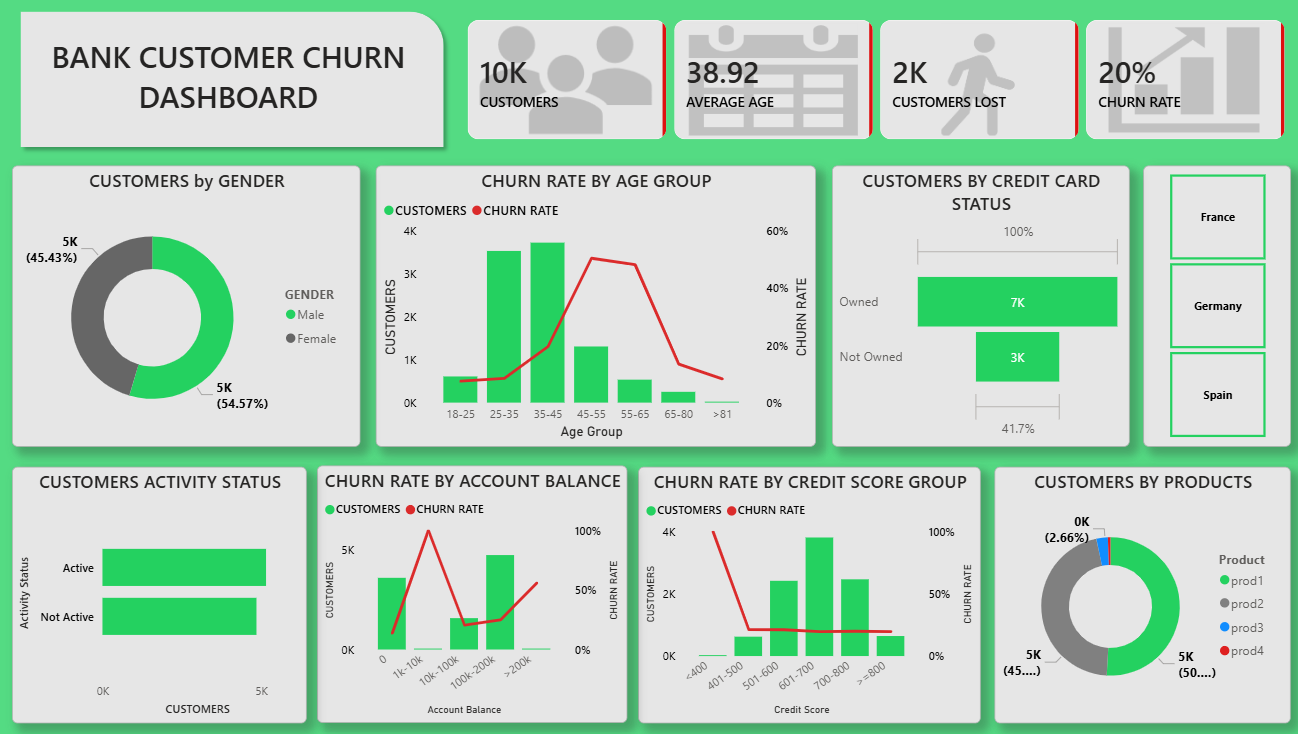

The dashboard page shown, as its layout file describes it:
{"tool":"powerbi","page":{"name":"Page 1","canvas":[1400,800],"ordinal":0},"visuals":[{"type":"cardVisual","fields":{"Data":["Customer Records.CUSTOMERS","Customer Records.AVERAGE AGE","Customer Records.CUSTOMERS LOST","Customer Records.CHURN RATE"]},"box":[487.9,12.1,911.5,162.2],"z":0},{"type":"lineClusteredColumnComboChart","title":"CHURN RATE BY AGE GROUP","fields":{"Y2":["Customer Records.CHURN RATE"],"Y":["Customer Records.CUSTOMERS"],"Category":["Age Groups.Age Group"]},"box":[406.2,185,471.9,301.6],"z":1000},{"type":"donutChart","fields":{"Y":["Customer Records.CUSTOMERS"],"Category":["Customer Records.Gender"]},"box":[16.1,185,374,301.6],"z":2000},{"type":"lineClusteredColumnComboChart","title":"CHURN RATE BY CREDIT SCORE GROUP","fields":{"Y":["Customer Records.CUSTOMERS"],"Y2":["Customer Records.CHURN RATE"],"Category":["Credit score Group.Credit Score"]},"box":[687.7,508,367.3,274.8],"z":3000},{"type":"lineClusteredColumnComboChart","title":"CHURN RATE BY ACCOUNT BALANCE","fields":{"Y2":["Customer Records.CHURN RATE"],"Y":["Customer Records.CUSTOMERS"],"Category":["Account Balance Group.Account Balance"]},"box":[343.2,506.7,332.4,276.1],"z":4000},{"type":"slicer","fields":{"Values":["Customer Records.Geography"]},"box":[1229.2,185,158.2,301.6],"z":5000},{"type":"donutChart","title":"CUSTOMERS BY PRODUCTS","fields":{"Category":["Customer Records.Product"],"Y":["Customer Records.CUSTOMERS"]},"box":[1069.7,508,317.7,274.8],"z":6000},{"type":"barChart","title":"CUSTOMERS ACTIVITY STATUS","fields":{"Category":["Customer Records.Activity Status"],"Y":["Customer Records.CUSTOMERS"]},"box":[16.1,508,316.4,274.8],"z":7000},{"type":"funnel","title":"CUSTOMERS BY CREDIT CARD STATUS","fields":{"Y":["Customer Records.CUSTOMERS"],"Category":["Customer Records.Credit Card Status"]},"box":[895.4,185,319,301.6],"z":8000},{"type":"shape","box":[16.1,10.7,471.9,163.5],"z":9000},{"type":"textbox","box":[49.6,41.6,396.8,111.3],"z":10000}]}

Visuals, with their boxes in screenshot pixels (x1, y1, x2, y2), scaled from the page's 1400x800 canvas onto the 1298x734 screenshot:
cardVisual - Customer Records.CUSTOMERS x Customer Records.AVERAGE AGE: (452,11,1297,160)
"CHURN RATE BY AGE GROUP" lineClusteredColumnComboChart: (377,170,814,446)
donutChart - Customer Records.CUSTOMERS x Customer Records.Gender: (15,170,362,446)
"CHURN RATE BY CREDIT SCORE GROUP" lineClusteredColumnComboChart: (638,466,978,718)
"CHURN RATE BY ACCOUNT BALANCE" lineClusteredColumnComboChart: (318,465,626,718)
slicer - Customer Records.Geography: (1140,170,1286,446)
"CUSTOMERS BY PRODUCTS" donutChart: (992,466,1286,718)
"CUSTOMERS ACTIVITY STATUS" barChart: (15,466,308,718)
"CUSTOMERS BY CREDIT CARD STATUS" funnel: (830,170,1126,446)
shape: (15,10,452,160)
textbox: (46,38,414,140)
